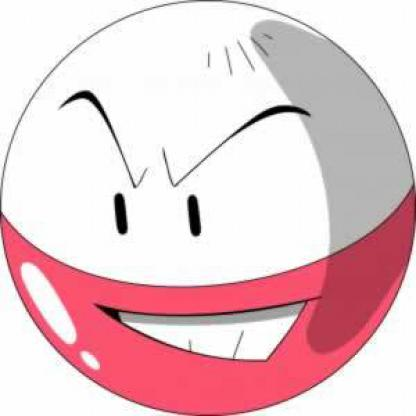Electrode: (16, 10, 416, 415)
